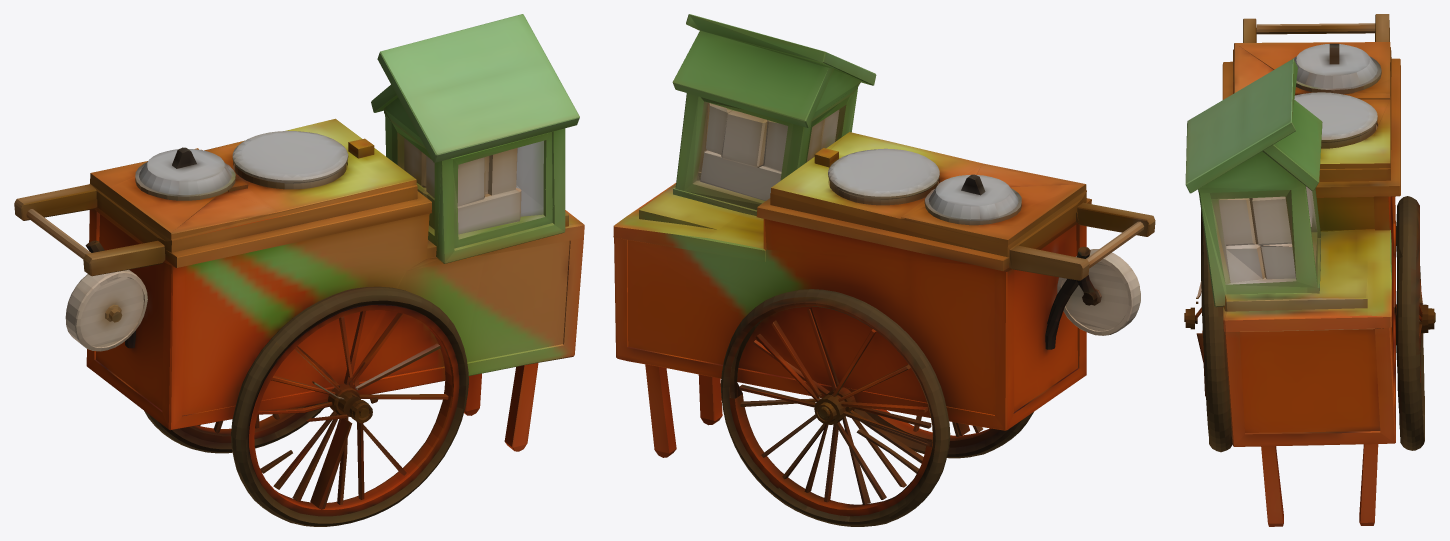
The picture shows the model from 3 angles, left to right: view 1: azimuth 30°, elevation 25°; view 2: azimuth 150°, elevation 25°; view 3: azimuth 270°, elevation 25°; orthographic projection. The views are drawn at different scales.
Visible parts, largest first — view 1: texture_pbr_v128; view 2: texture_pbr_v128; view 3: texture_pbr_v128.
Boxes of the visible parts, <box> form: texture_pbr_v128: <box>14,14,584,526</box>; texture_pbr_v128: <box>613,14,1155,526</box>; texture_pbr_v128: <box>1184,14,1435,526</box>.
Bounding box in the file's own units: 0.9752 × 0.8264 × 0.452.
Materials: 1 (1 with a texture image).
